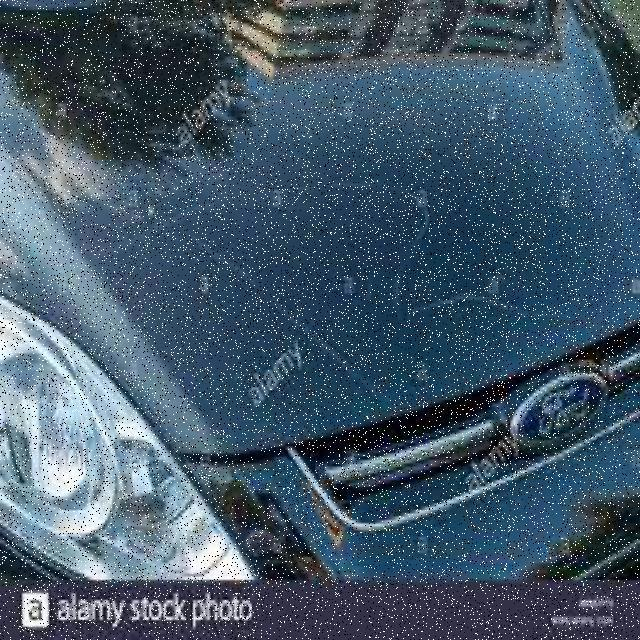bonnet-dent: (0, 43, 638, 430)
